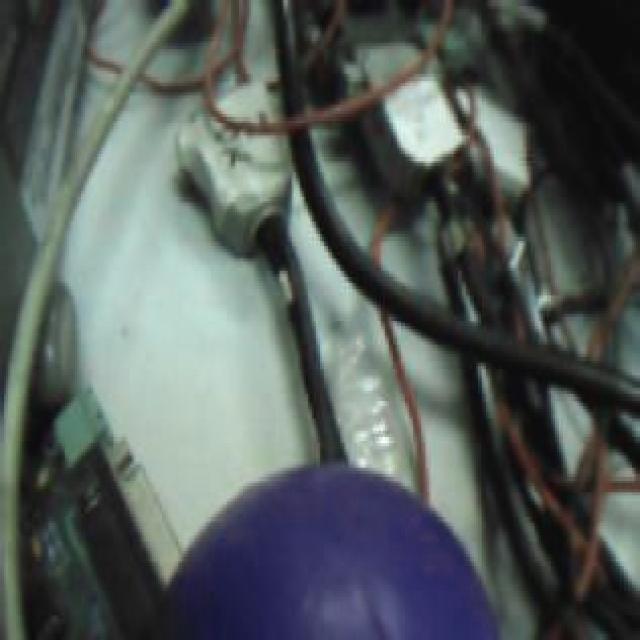BallPurple: (161, 461, 503, 640)
